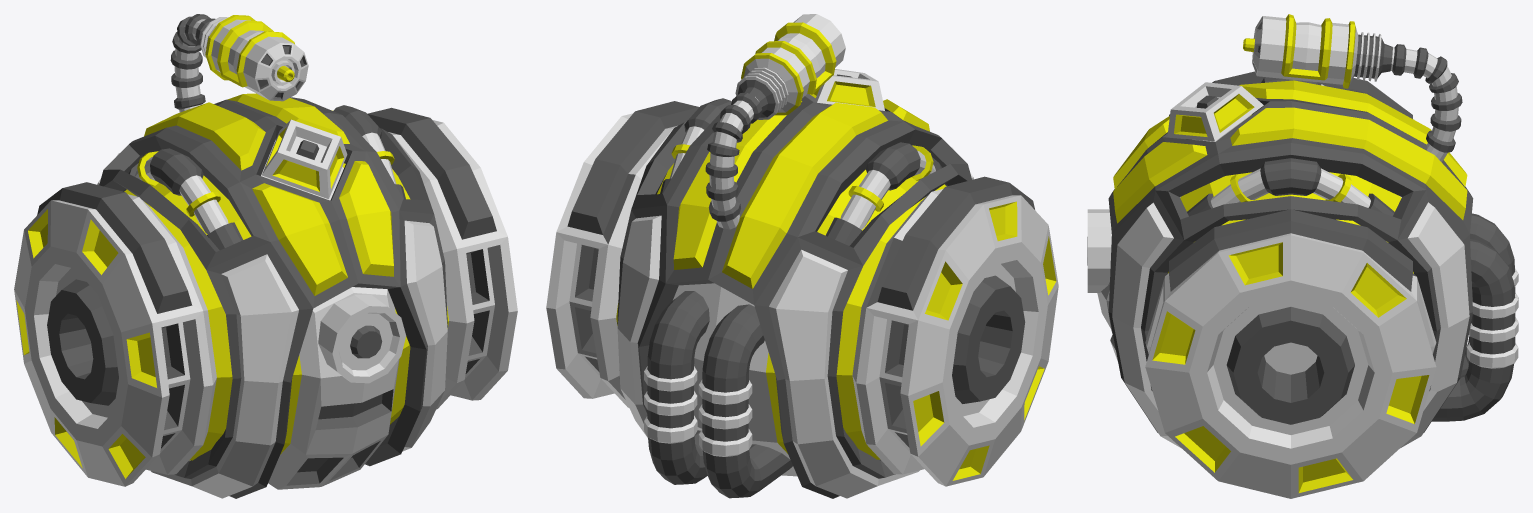
Rendered from mid_tower3_2.fbx.
3 renders of one model, left to right at view 1: azimuth 30°, elevation 25°; view 2: azimuth 150°, elevation 25°; view 3: azimuth 270°, elevation 25°, orthographic. The views are drawn at different scales.
Visible parts, largest first — view 1: polySurface132; view 2: polySurface132; view 3: polySurface132.
Part boxes in pixels (bbox=[...]): polySurface132: bbox=[14, 14, 517, 498]; polySurface132: bbox=[546, 14, 1058, 498]; polySurface132: bbox=[1087, 14, 1518, 498].
Size of the model in its own units: 0.8987 by 0.9873 by 0.8992.
